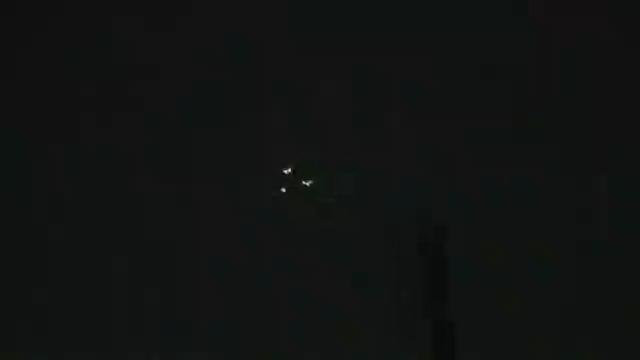Plane: (267, 157, 323, 199)
